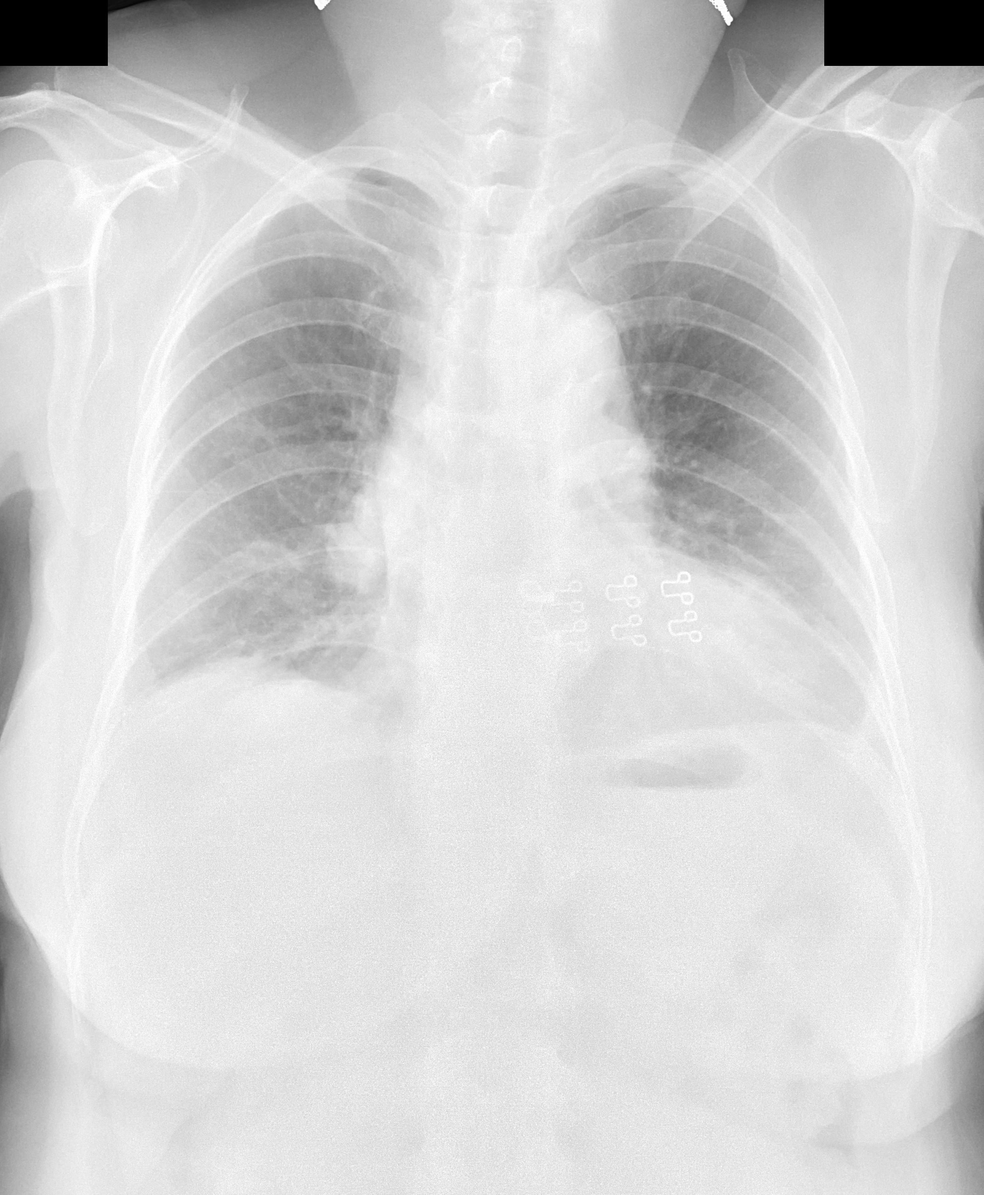Aortic enlargement: (398, 292, 631, 482)
Cardiomegaly: (355, 614, 834, 730)
